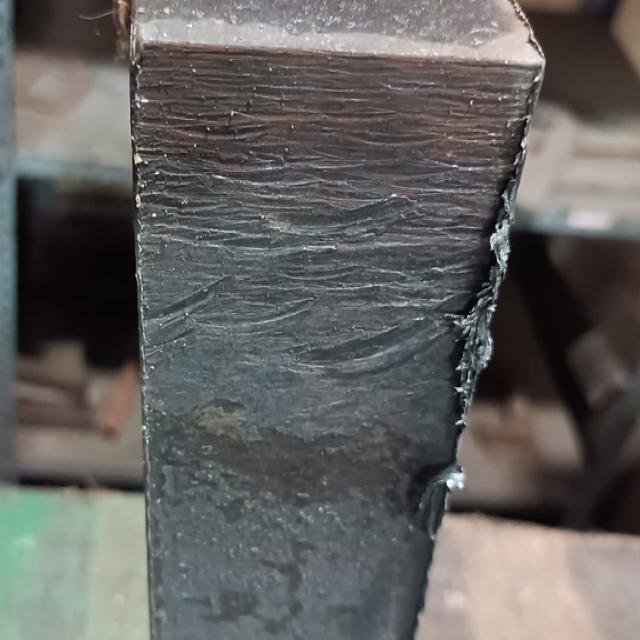defect: (132, 47, 539, 528)
